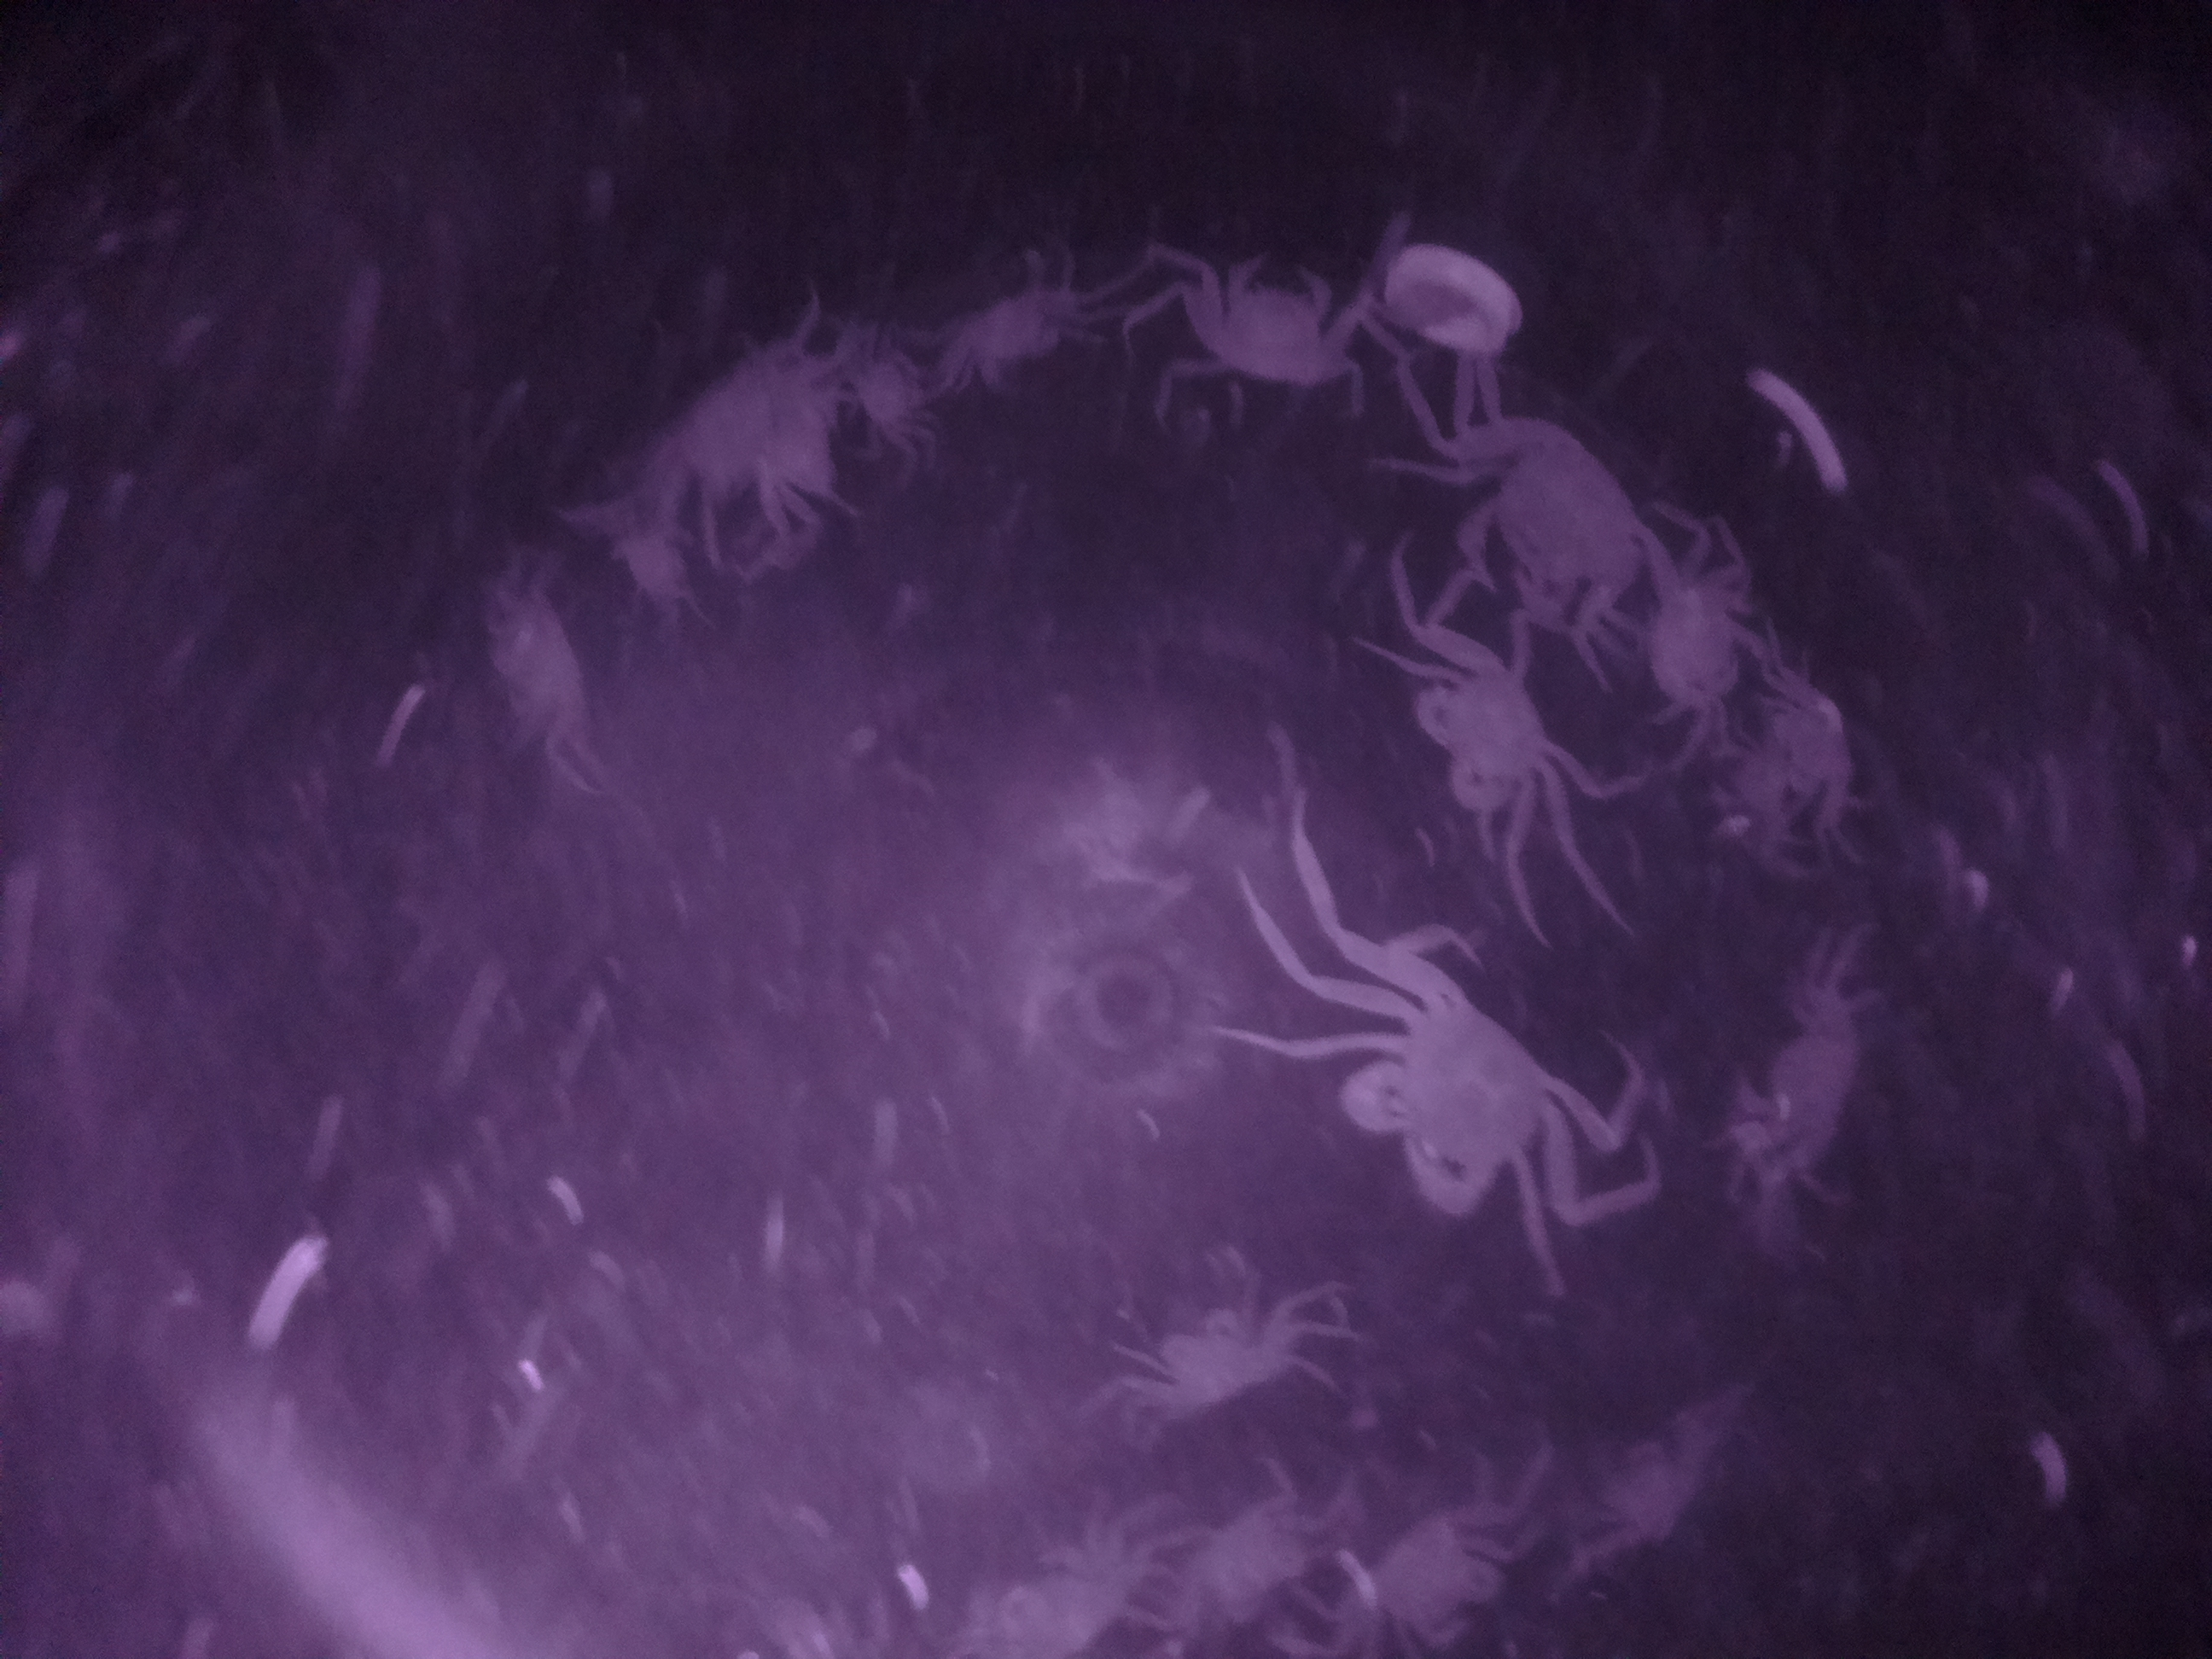Crab: (1313, 962, 1580, 1239), (1407, 631, 1575, 843), (1167, 239, 1362, 397), (1127, 1286, 1303, 1438)
